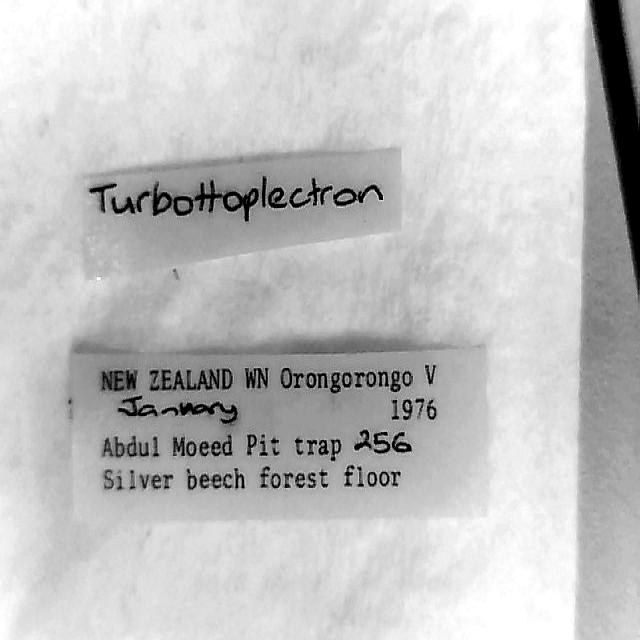hand_label: (85, 148, 401, 277)
mixed_label: (71, 351, 486, 521)
